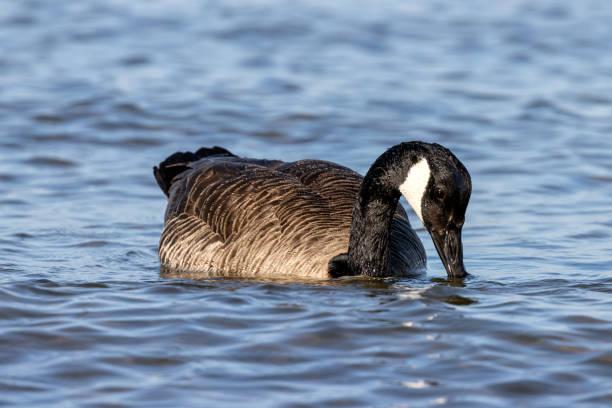Canadian-Goose: (150, 124, 475, 301)
